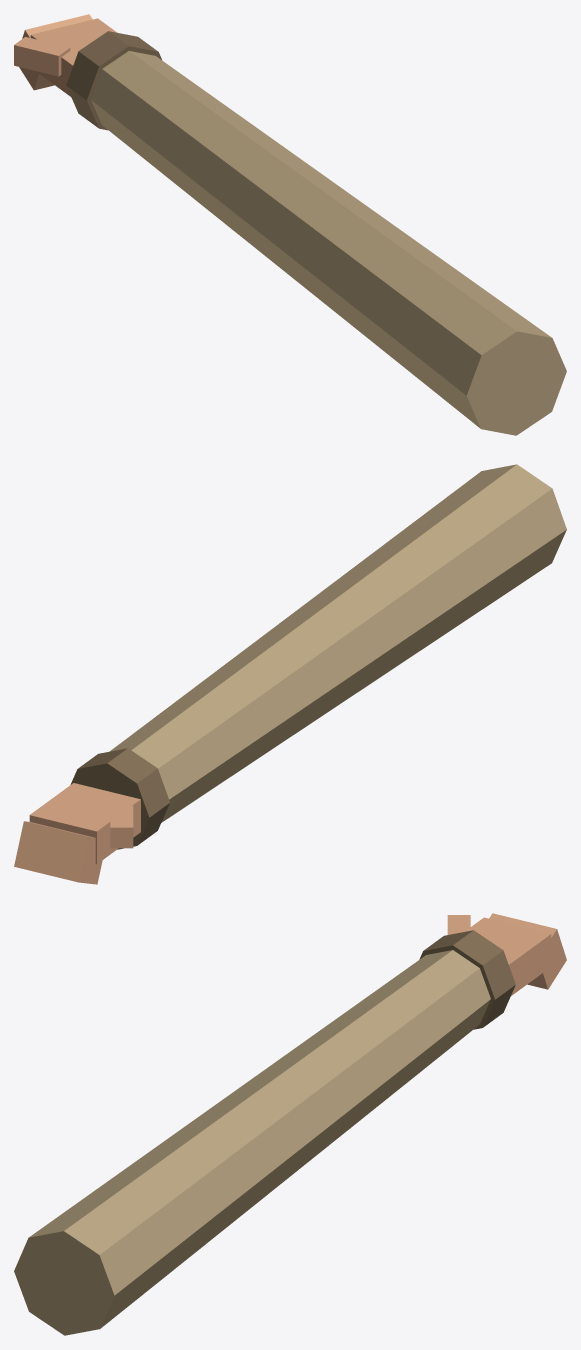
File: fp_arm.glb
3 renders of one model, top to bottom at view 1: azimuth 30°, elevation 25°; view 2: azimuth 150°, elevation 25°; view 3: azimuth 330°, elevation 25°, orthographic.
Parts seen in each view (by area): view 1: arm; view 2: arm; view 3: arm.
Part boxes in pixels (<box>): arm: <box>14,14,566,435</box>; arm: <box>14,464,566,884</box>; arm: <box>14,913,566,1335</box>.
Size of the model in its own units: 0.123 by 0.113 by 0.9084.
